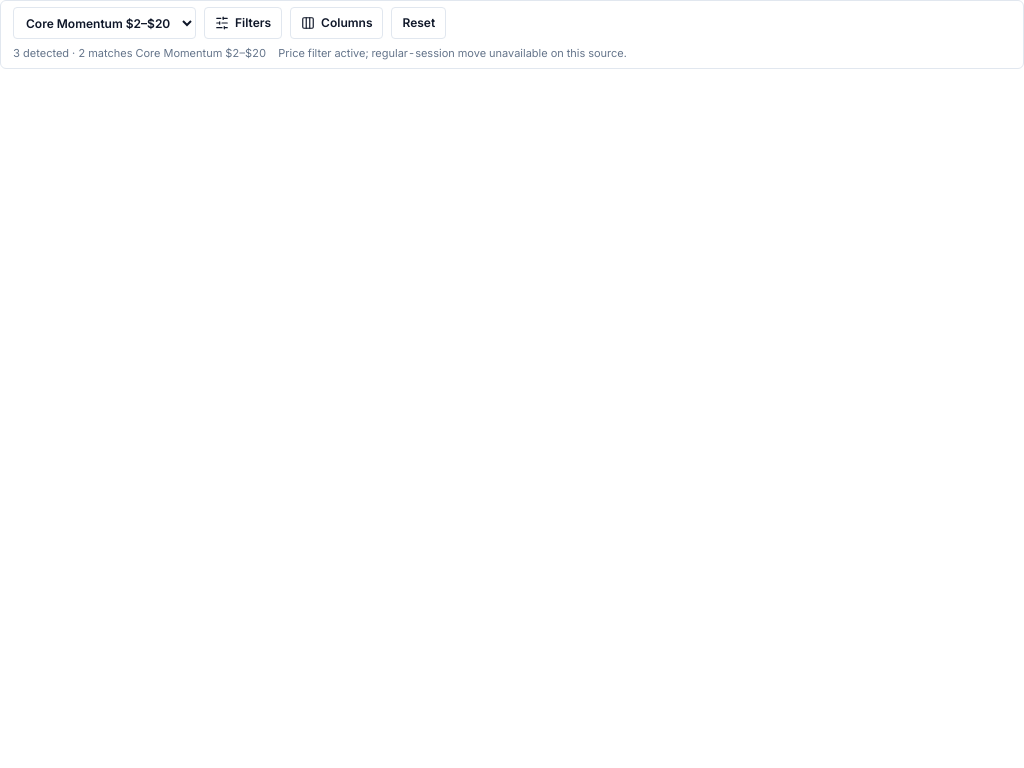
compact Trader Lens bar › hides Price Min/Max until Custom or Filters, and lists All Radar Candidates first
Expected: the dropdown named "Trader Lens preset" shows "Core Momentum $2–$20", [13,7,196,39]
Expected: the field labelled "Price min" is not shown
Click the button "Filters": (243, 23) [204,7,282,39]
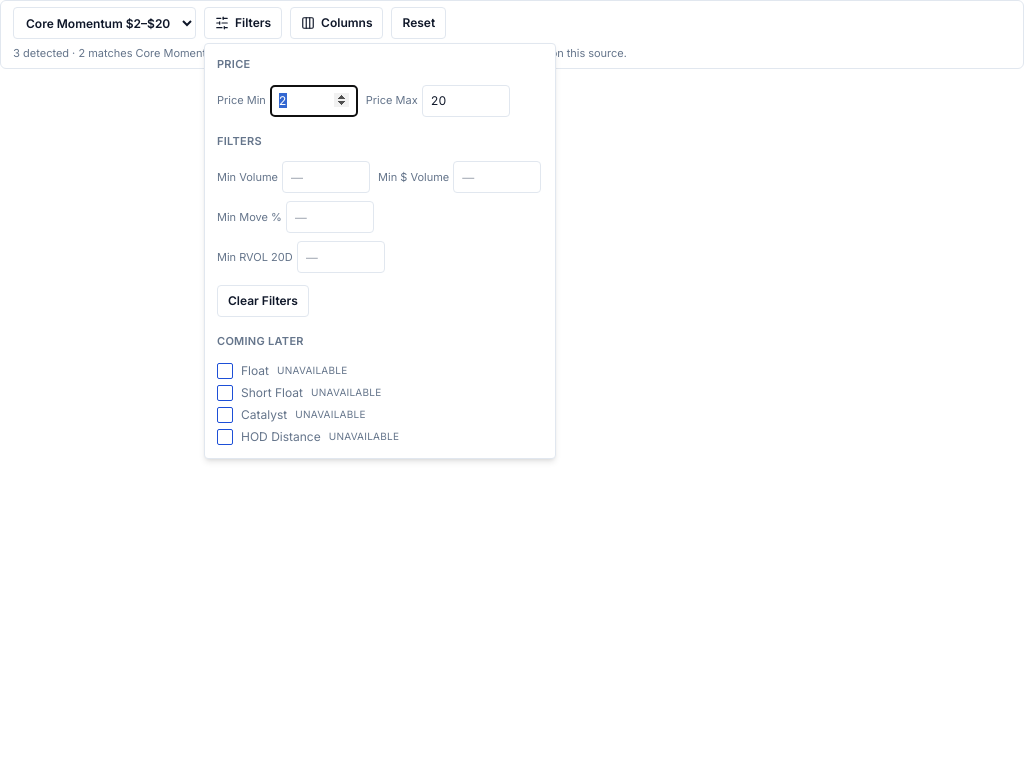
Now the number field labelled "Price Min" is shown, box [270,84,358,116]
Now the number field labelled "Min Move %" is shown, box [286,201,374,233]
Now the number field labelled "Min Volume" is shown, box [282,161,370,193]
